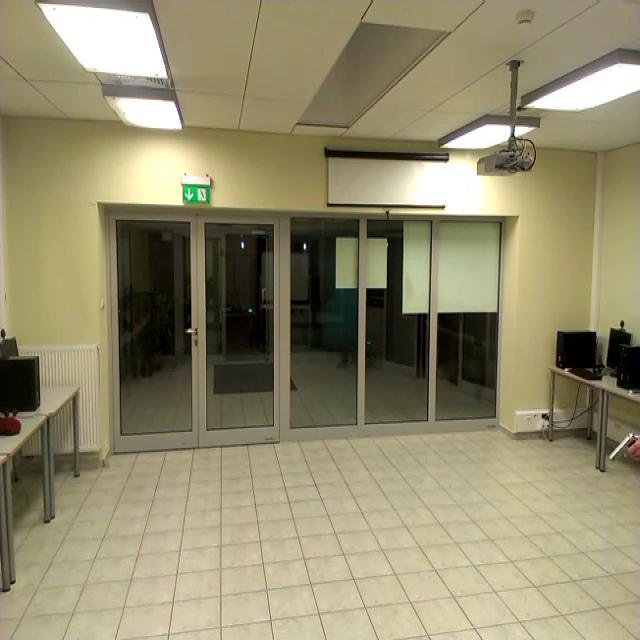Gun: (610, 430, 639, 461)
